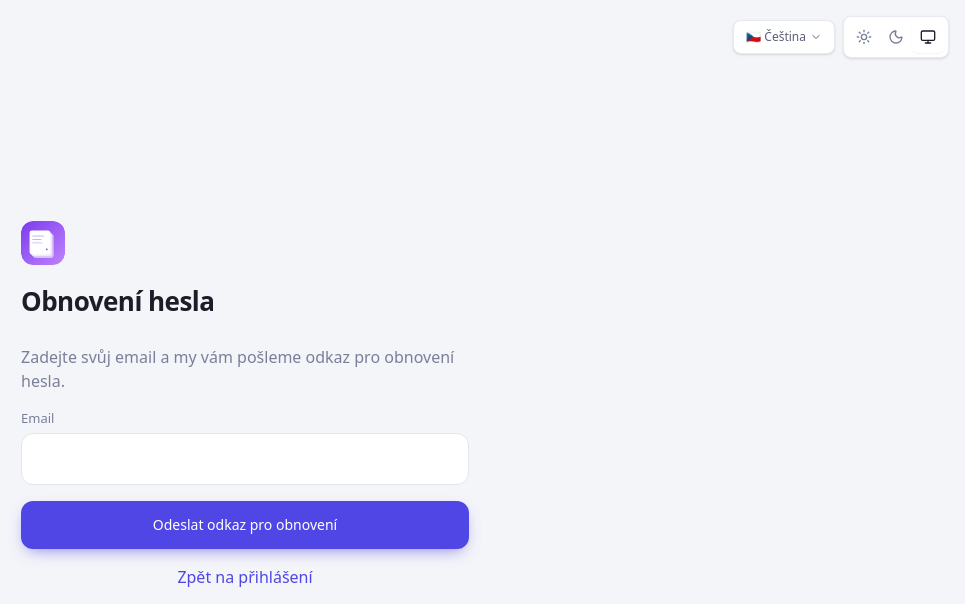
Test case: ForgotPassword Component › shows success message after submitting
The image size is (965, 604).
Type "test@example.com" into the field labelled "Email". click: (245,459)
box: top-left (21, 433), bottom-right (469, 485)
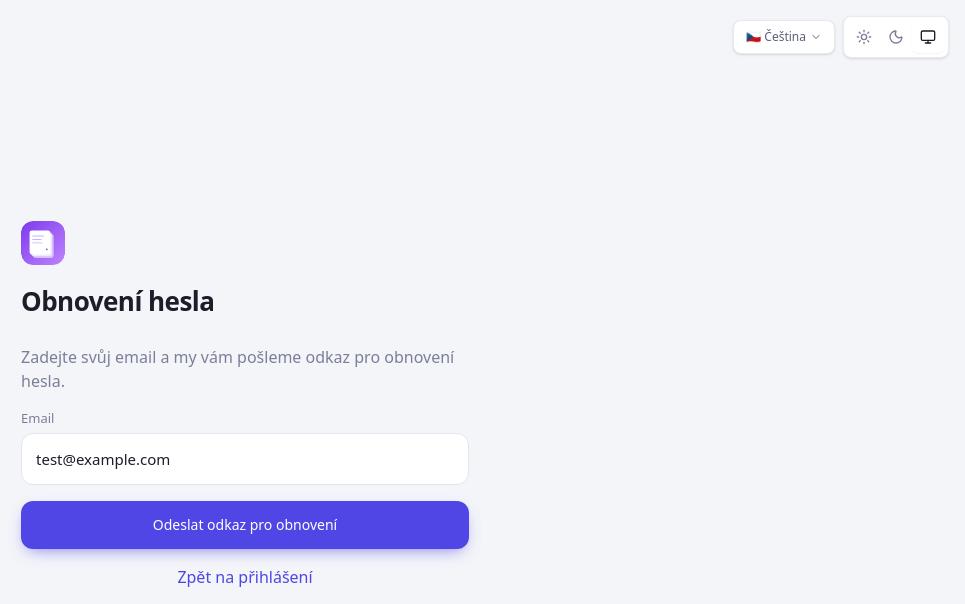
Click the button "Odeslat odkaz pro obnovení". click: (245,525)
box: top-left (21, 501), bottom-right (469, 549)
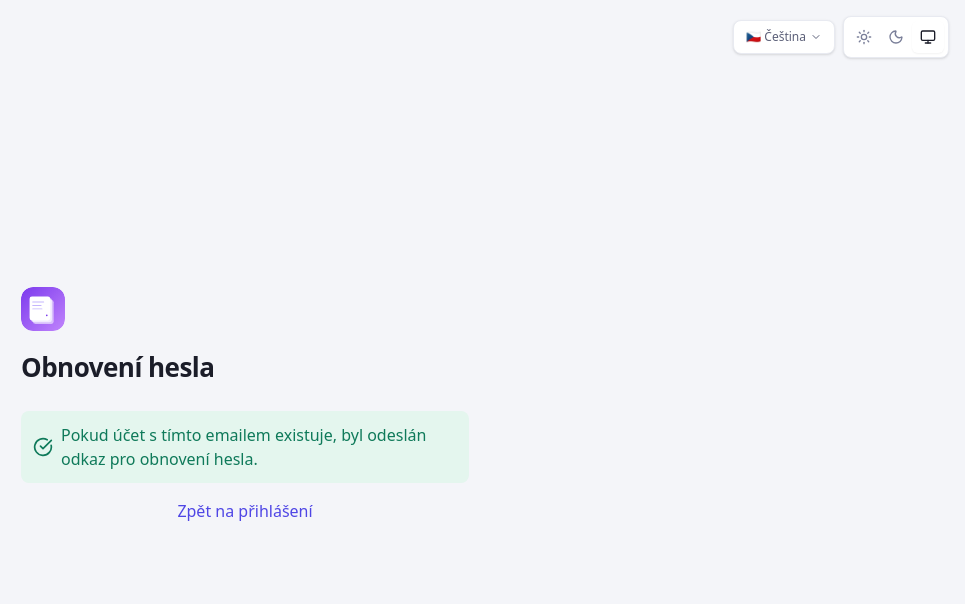
Expected: the text "odkaz pro obnovení hesla" is shown, top-left (61, 424), bottom-right (426, 470)
